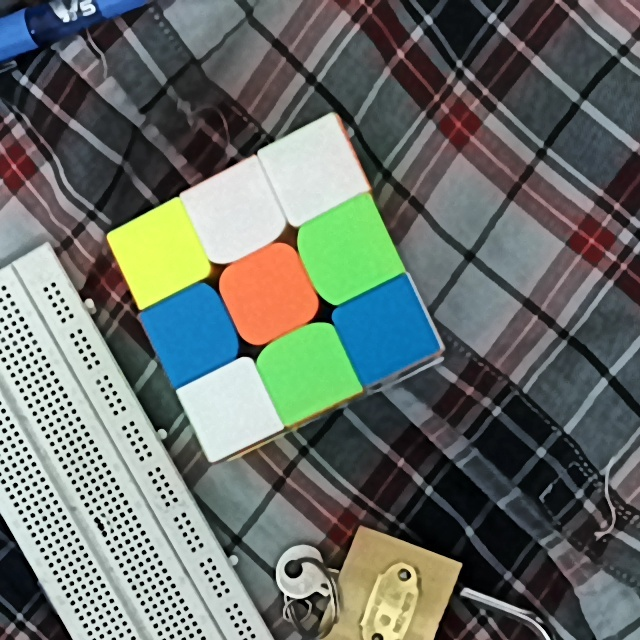tile: (355, 300, 419, 363), (314, 221, 380, 282), (233, 265, 299, 325), (204, 185, 268, 242), (282, 141, 343, 200), (164, 304, 222, 365), (272, 346, 336, 400), (133, 222, 190, 281), (202, 378, 260, 435)
